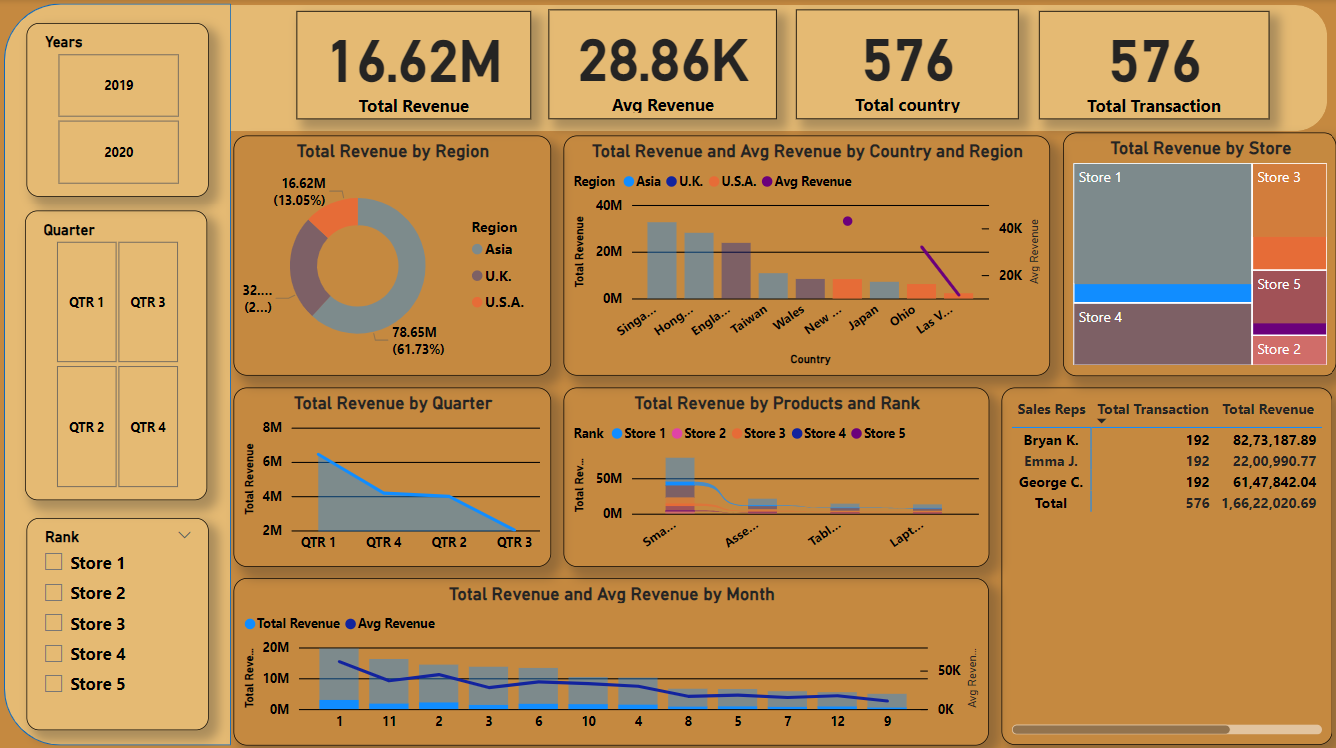

What the dashboard file says about the page in this screenshot:
{"tool":"powerbi","page":{"name":"Page 1","canvas":[1280,720],"ordinal":0},"visuals":[{"type":"shape","box":[5.7,4.3,216.9,708.7],"z":0},{"type":"shape","box":[222.5,5.7,1047.4,120.5],"z":1000},{"type":"card","fields":{"Values":["Mesures.Total Revenue"]},"box":[284.9,11.3,223.9,103.5],"z":2000},{"type":"card","fields":{"Values":["Mesures.Avg Revenue"]},"box":[525.8,9.9,218.3,104.9],"z":3000},{"type":"card","fields":{"Values":["Mesures.Total country"]},"box":[762.5,9.9,212.6,104.9],"z":4000},{"type":"card","fields":{"Values":["Mesures.Total Transaction"]},"box":[993.5,11.3,219.7,103.5],"z":5000},{"type":"donutChart","fields":{"Y":["Mesures.Total Revenue"],"Category":["Sheet1.Region"]},"box":[225.4,130.4,303.3,229.6],"z":6000},{"type":"lineStackedColumnComboChart","fields":{"Category":["Sheet1.Country"],"Y":["Mesures.Total Revenue"],"Y2":["Mesures.Avg Revenue"],"Series":["Sheet1.Region"]},"box":[540,130.4,464.9,229.6],"z":7000},{"type":"treemap","title":"Total Revenue by Store","fields":{"Values":["Mesures.Total Revenue"],"Group":["Sheet1.Rank"]},"box":[1017.6,127.6,262.2,232.4],"z":8000},{"type":"areaChart","fields":{"Y":["Mesures.Total Revenue"],"Category":["Sheet1.Quarter"]},"box":[225.4,371.3,303.3,171.5],"z":8001},{"type":"ribbonChart","fields":{"Category":["Sheet1.Products"],"Y":["Mesures.Total Revenue"],"Series":["Sheet1.Rank"]},"box":[540,371.3,406.8,171.5],"z":8002},{"type":"pivotTable","fields":{"Rows":["Sheet1.Sales Reps"],"Values":["Mesures.Total Transaction","Mesures.Total Revenue","Mesures.Avg Revenue"]},"box":[958.1,371.3,316.1,341.6],"z":8003},{"type":"lineStackedColumnComboChart","fields":{"Y2":["Mesures.Avg Revenue"],"Category":["Sheet1.Month"],"Y":["Mesures.Total Revenue"]},"box":[225.4,552.8,721.4,160.2],"z":8004},{"type":"slicer","fields":{"Values":["Sheet1.Years"]},"box":[26.9,22.7,174.3,165.8],"z":8005},{"type":"slicer","fields":{"Values":["Sheet1.Quarter"]},"box":[25.5,202.7,174.3,276.4],"z":8006},{"type":"slicer","fields":{"Values":["Sheet1.Rank"]},"box":[26.9,496.1,174.3,202.7],"z":8007}]}

Visuals, with their boxes in screenshot pixels (x1, y1, x2, y2), scaled from the page's 1280x720 canvas onto the 1336x748 screenshot:
shape: BBox(6, 4, 232, 741)
shape: BBox(232, 6, 1325, 131)
card - Mesures.Total Revenue: BBox(297, 12, 531, 119)
card - Mesures.Avg Revenue: BBox(549, 10, 777, 119)
card - Mesures.Total country: BBox(796, 10, 1018, 119)
card - Mesures.Total Transaction: BBox(1037, 12, 1266, 119)
donutChart - Mesures.Total Revenue x Sheet1.Region: BBox(235, 135, 552, 374)
lineStackedColumnComboChart - Sheet1.Country x Mesures.Total Revenue: BBox(564, 135, 1049, 374)
"Total Revenue by Store" treemap: BBox(1062, 133, 1335, 374)
areaChart - Mesures.Total Revenue x Sheet1.Quarter: BBox(235, 386, 552, 564)
ribbonChart - Sheet1.Products x Mesures.Total Revenue: BBox(564, 386, 988, 564)
pivotTable - Sheet1.Sales Reps x Mesures.Total Transaction: BBox(1000, 386, 1330, 741)
lineStackedColumnComboChart - Mesures.Avg Revenue x Sheet1.Month: BBox(235, 574, 988, 741)
slicer - Sheet1.Years: BBox(28, 24, 210, 196)
slicer - Sheet1.Quarter: BBox(27, 211, 209, 498)
slicer - Sheet1.Rank: BBox(28, 515, 210, 726)
